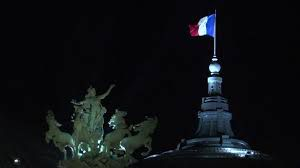French Flag: (189, 14, 216, 38)
